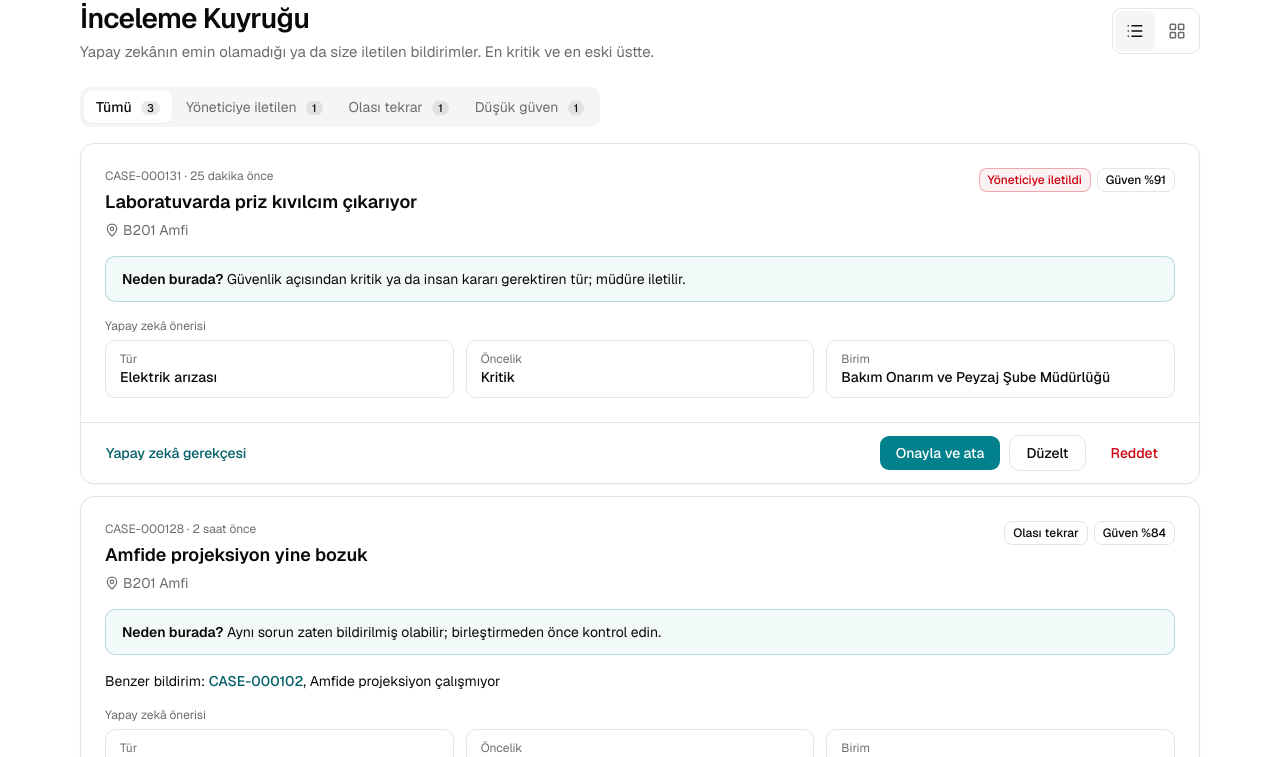
Test: ReviewQueue › still confirms the action when the card leaves before the other refetches finish
The width and height of the screenshot is (1280, 757).
Step 1. Click the button "Yapay zekâ gerekçesi" → [176, 453], box x1=93 y1=435 x2=259 y2=471
(page scrolled)
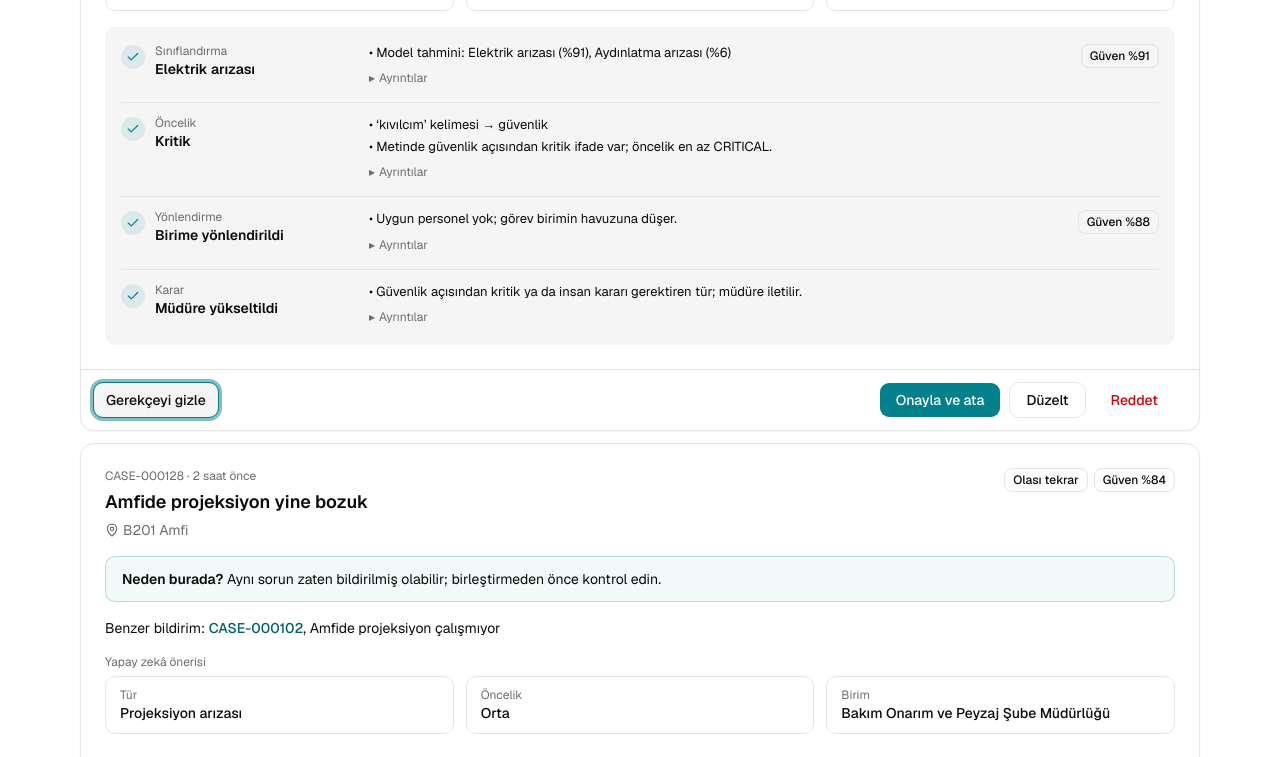
Now the list named "Yapay zekâ kararları" is shown, box x1=105 y1=27 x2=1175 y2=345
Step 2. Click the button "Onayla ve ata" below "%88" → [940, 400], box x1=879 y1=382 x2=1001 y2=418
(page scrolled)
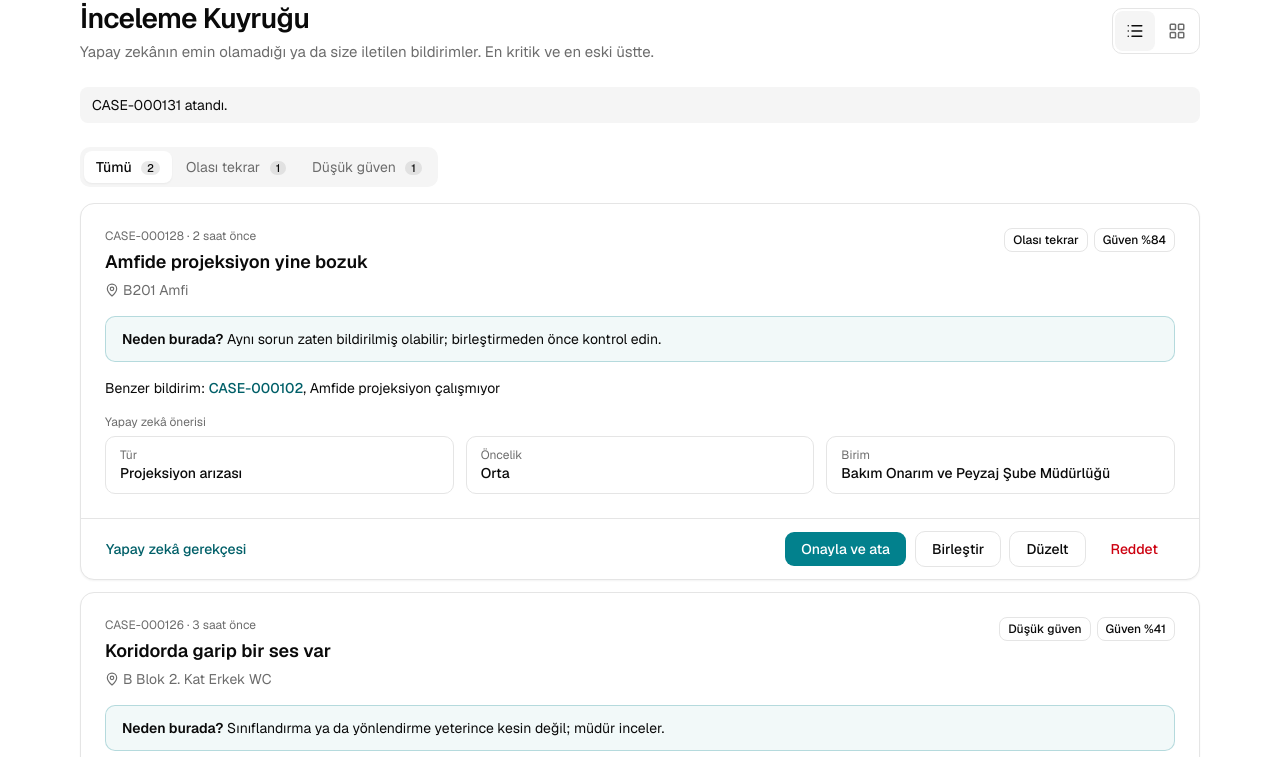
Now the message reads "CASE-000131 atandı.", box x1=92 y1=96 x2=227 y2=114
